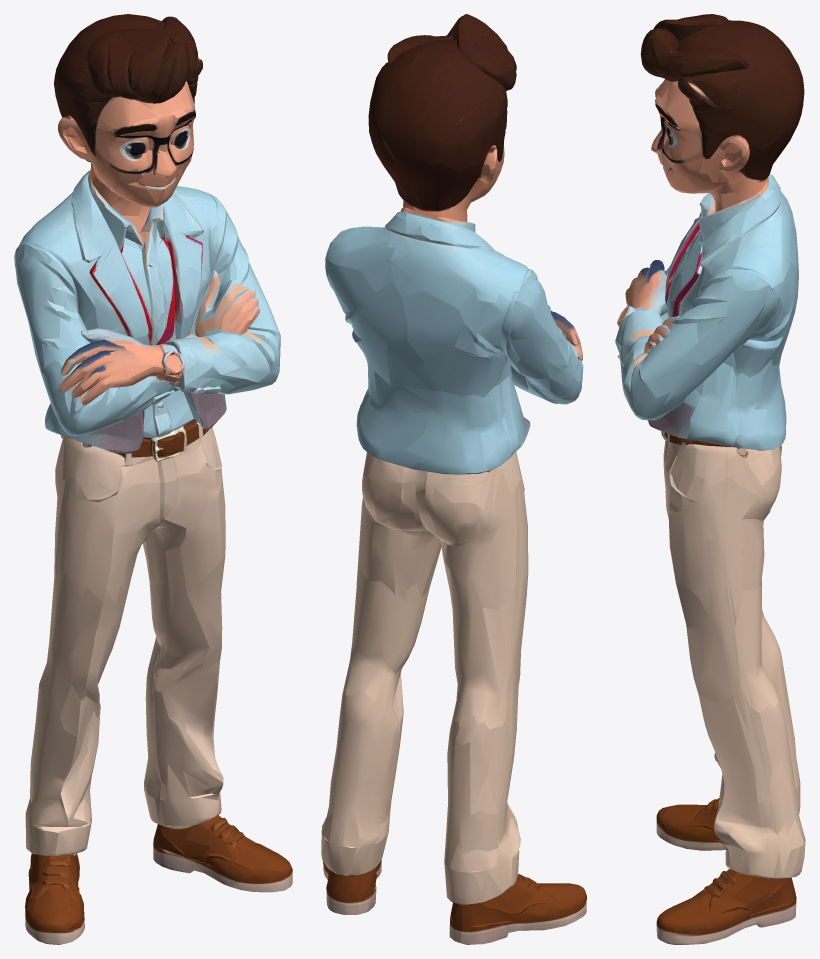
File: npc-ey.glb
The picture shows the model from 3 angles, left to right: view 1: azimuth 30°, elevation 25°; view 2: azimuth 150°, elevation 25°; view 3: azimuth 270°, elevation 25°; orthographic projection.
Size of the model in its own units: 0.5746 by 1.9 by 0.3797.
Materials: 1 (1 with a texture image).
